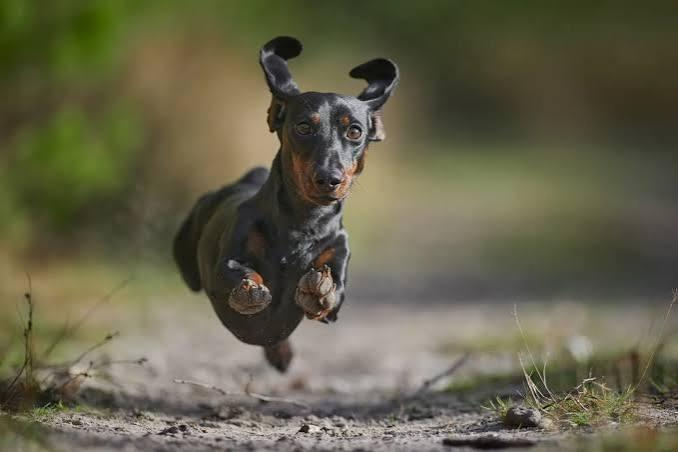adult_dog: (172, 34, 402, 375)
